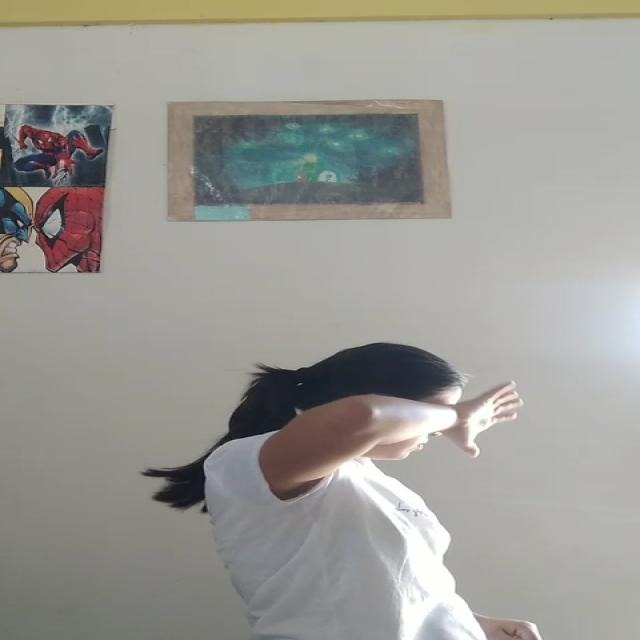7_mano_rostro: (289, 382, 485, 456)
